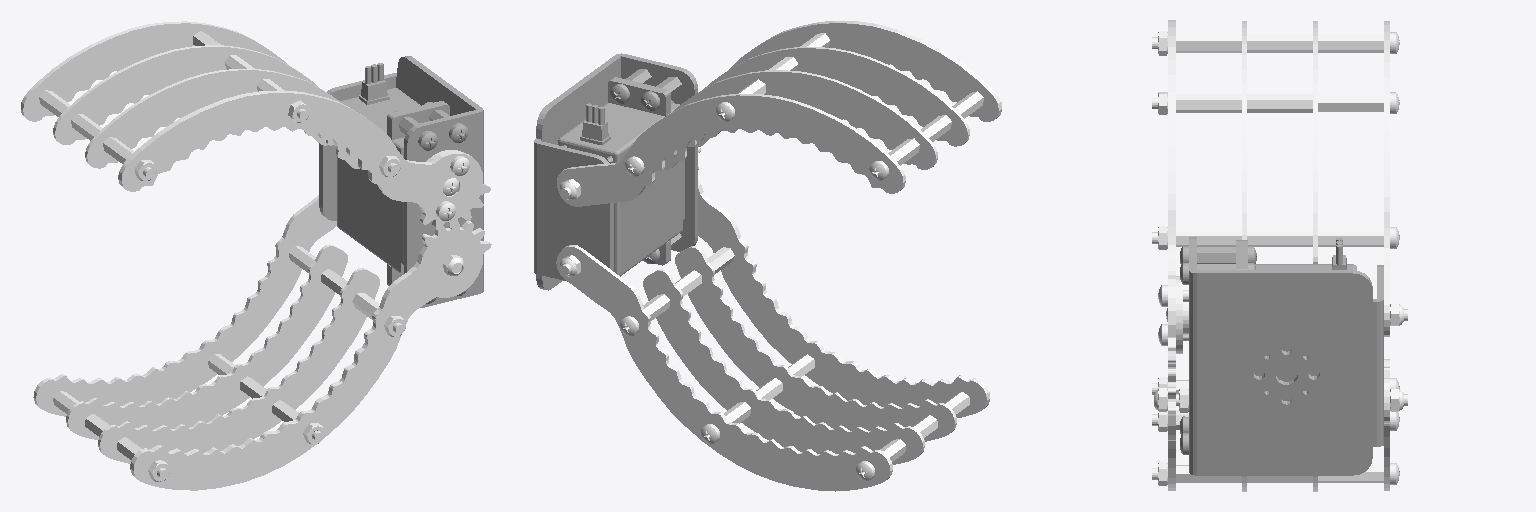
URDF robot description (gripper2):
<?xml version="1.0" encoding="utf-8"?>
<!-- This URDF was automatically created by SolidWorks to URDF Exporter! Originally created by [author] ([email redacted]) 
     Commit Version: 1.6.0-4-g7f85cfe  Build Version: 1.6.7995.38578
     For more information, please see http://wiki.ros.org/sw_urdf_exporter -->
<robot
  name="gripper2">
  <link
    name="base_link">
    <inertial>
      <origin
        xyz="-0.0084311 -0.0026508 -0.00015602"
        rpy="0 0 0" />
      <mass
        value="0.11581" />
      <inertia
        ixx="5.4342E-05"
        ixy="-3.727E-07"
        ixz="-2.0098E-07"
        iyy="2.8746E-05"
        iyz="-6.0295E-07"
        izz="3.713E-05" />
    </inertial>
    <visual>
      <origin
        xyz="0 0 0"
        rpy="0 0 0" />
      <geometry>
        <mesh
          filename="package://gripper2/meshes/base_link.STL" />
      </geometry>
      <material
        name="">
        <color
          rgba="0.75294 0.75294 0.75294 1" />
      </material>
    </visual>
    <collision>
      <origin
        xyz="0 0 0"
        rpy="0 0 0" />
      <geometry>
        <mesh
          filename="package://gripper2/meshes/base_link.STL" />
      </geometry>
    </collision>
  </link>
  <link
    name="right_link">
    <inertial>
      <origin
        xyz="-0.046301 -0.029247 0.021379"
        rpy="0 0 0" />
      <mass
        value="0.03309" />
      <inertia
        ixx="2.1863E-06"
        ixy="-1.0959E-11"
        ixz="2.5315E-06"
        iyy="9.3261E-06"
        iyz="-2.3809E-12"
        izz="8.531E-06" />
    </inertial>
    <visual>
      <origin
        xyz="0 0 0"
        rpy="0 0 0" />
      <geometry>
        <mesh
          filename="package://gripper2/meshes/right_link.STL" />
      </geometry>
      <material
        name="">
        <color
          rgba="1 1 1 1" />
      </material>
    </visual>
    <collision>
      <origin
        xyz="0 0 0"
        rpy="0 0 0" />
      <geometry>
        <mesh
          filename="package://gripper2/meshes/right_link.STL" />
      </geometry>
    </collision>
  </link>
  <joint
    name="right_joint"
    type="revolute">
    <origin
      xyz="-0.0135 0.024 0.01"
      rpy="0 0 0" />
    <parent
      link="base_link" />
    <child
      link="right_link" />
    <axis
      xyz="0 -1 0" />
    <limit
      lower="0"
      upper="0"
      effort="0"
      velocity="0" />
  </joint>
  <link
    name="left_link">
    <inertial>
      <origin
        xyz="-0.046709 -0.027439 -0.029147"
        rpy="0 0 0" />
      <mass
        value="0.030645" />
      <inertia
        ixx="2.9028E-06"
        ixy="8.3629E-12"
        ixz="-3.3228E-06"
        iyy="9.4277E-06"
        iyz="-3.8595E-12"
        izz="7.9093E-06" />
    </inertial>
    <visual>
      <origin
        xyz="0 0 0"
        rpy="0 0 0" />
      <geometry>
        <mesh
          filename="package://gripper2/meshes/left_link.STL" />
      </geometry>
      <material
        name="">
        <color
          rgba="1 1 1 1" />
      </material>
    </visual>
    <collision>
      <origin
        xyz="0 0 0"
        rpy="0 0 0" />
      <geometry>
        <mesh
          filename="package://gripper2/meshes/left_link.STL" />
      </geometry>
    </collision>
  </link>
  <joint
    name="left_joint"
    type="revolute">
    <origin
      xyz="-0.0135 0.024 -0.014"
      rpy="0 0 0" />
    <parent
      link="base_link" />
    <child
      link="left_link" />
    <axis
      xyz="0 1 0" />
    <limit
      lower="0"
      upper="0"
      effort="0"
      velocity="0" />
  </joint>
</robot>

--- Facts derived from the render (not from the file) ---
3 views of the same robot in one strip: view 1: azimuth 30°, elevation 25°; view 2: azimuth 150°, elevation 25°; view 3: azimuth 270°, elevation 25° (orthographic).
Robot: gripper2 — 3 links, 2 joints (2 revolute); root link base_link; default pose: every joint at zero.
Links seen in each view (by area): view 1: left_link, right_link, base_link; view 2: left_link, right_link, base_link; view 3: base_link, right_link, left_link.
Boxes of the visible links, x1,y1,x2,y2 form: left_link: (33,195,491,490); right_link: (21,21,490,229); base_link: (319,56,483,307); left_link: (556,166,989,491); right_link: (557,21,1001,206); base_link: (534,53,697,290); base_link: (1180,237,1383,475); right_link: (1152,20,1407,366); left_link: (1152,359,1407,491).
Bounding box of the posed robot: 0.1232 × 0.0654 × 0.121 m (x, y, z).
3 mesh visuals loaded from 3 distinct referenced files (3 binary STL).